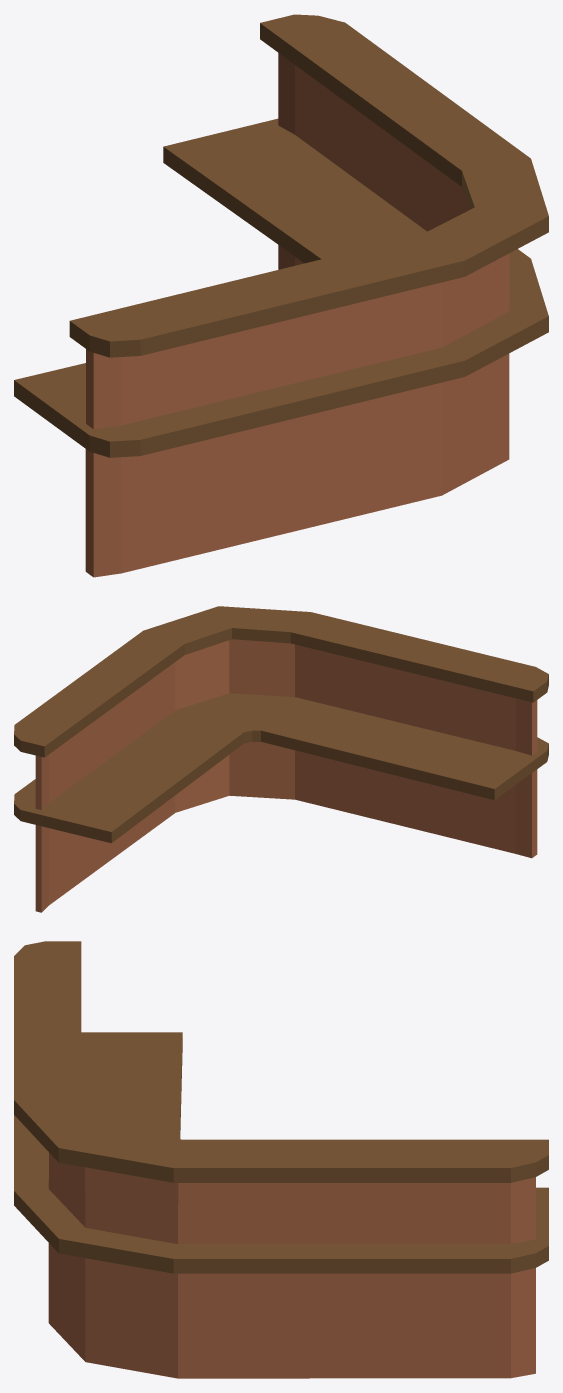
File: mesh_recepcionisttable.fbx
3 views of the same model, one above another, from view 1: azimuth 30°, elevation 25°; view 2: azimuth 150°, elevation 25°; view 3: azimuth 270°, elevation 25° (orthographic). The views are drawn at different scales.
Parts seen in each view (by area): view 1: mesh_furniture_receptionist_table_01; view 2: mesh_furniture_receptionist_table_01; view 3: mesh_furniture_receptionist_table_01.
Boxes of the visible parts, <box> form: mesh_furniture_receptionist_table_01: <box>14,14,548,577</box>; mesh_furniture_receptionist_table_01: <box>14,606,548,912</box>; mesh_furniture_receptionist_table_01: <box>14,941,548,1378</box>.
Size of the model in its own units: 89.44 by 41.4 by 89.17.
